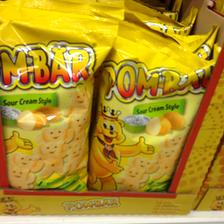Chips: (0, 15, 118, 191), (90, 28, 215, 188)
